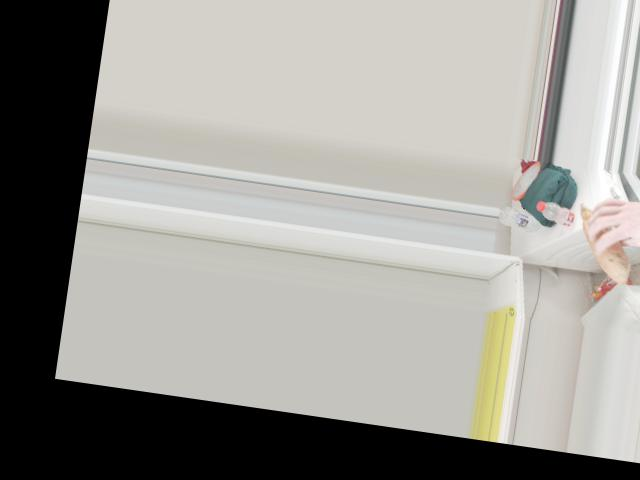sweet_potato: (573, 198, 636, 279)
